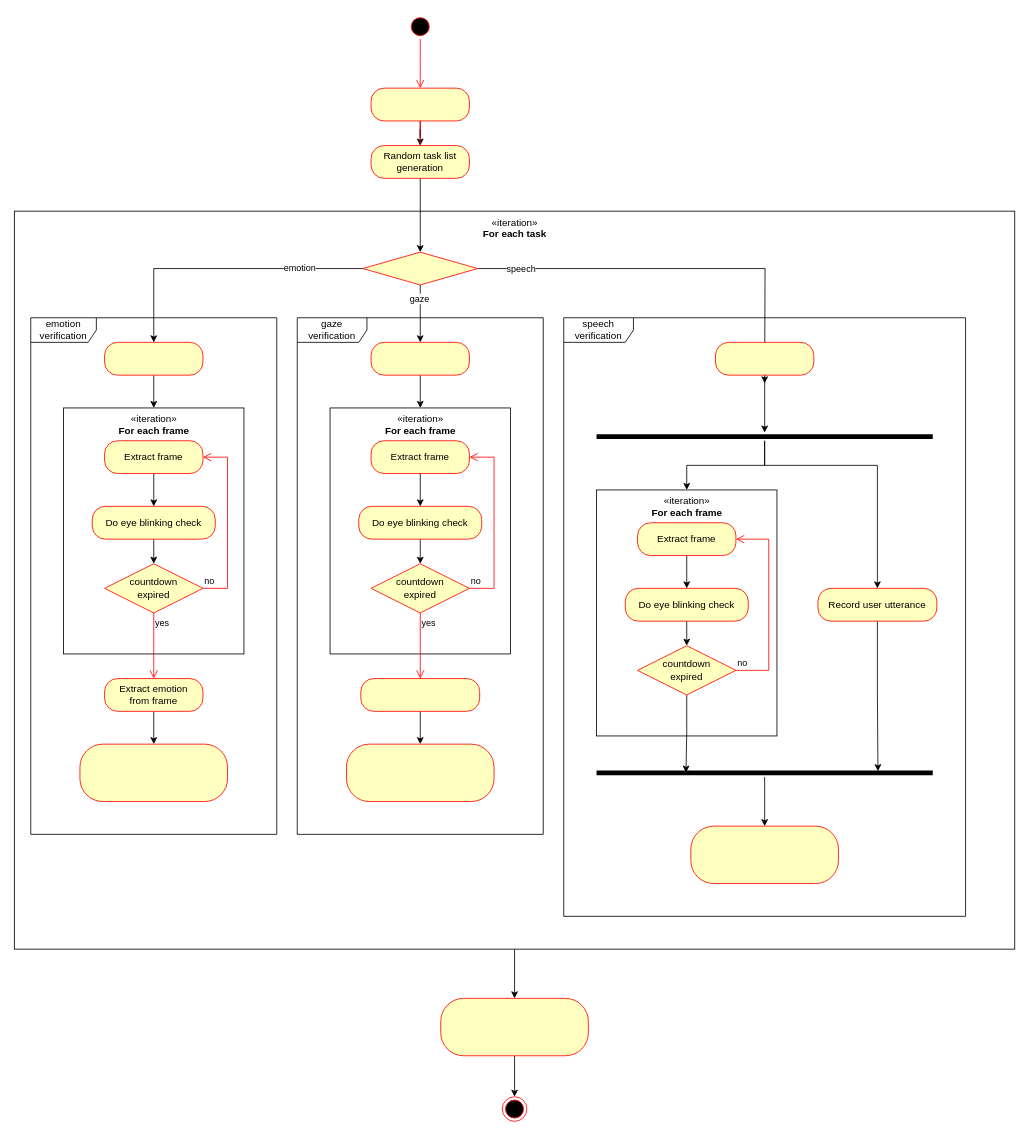
This 1029x1136 diagram has some shape labels left out. Here are the shapes that lost their labels. From the top down, the centre of each, then its label:
At point (419, 104): "Start verification".
At point (420, 268): "next task".
At point (153, 358): "Generate random requested emotion".
At point (419, 358): "Generate random requested direction".
At point (764, 358): "Generate random sequence of words".
At point (420, 694): "Extract gaze direction from frame".
At point (153, 772): "Store result: (emotions match) && (blinking ratio is ok)".
At point (420, 772): "Store result: (gazes match) && (blinking ratio is ok)".
At point (764, 854): "Store result: (requested word == stt result) && (blinking ratio is ok)".
At point (514, 1027): "Return whether all 3 results are true".
